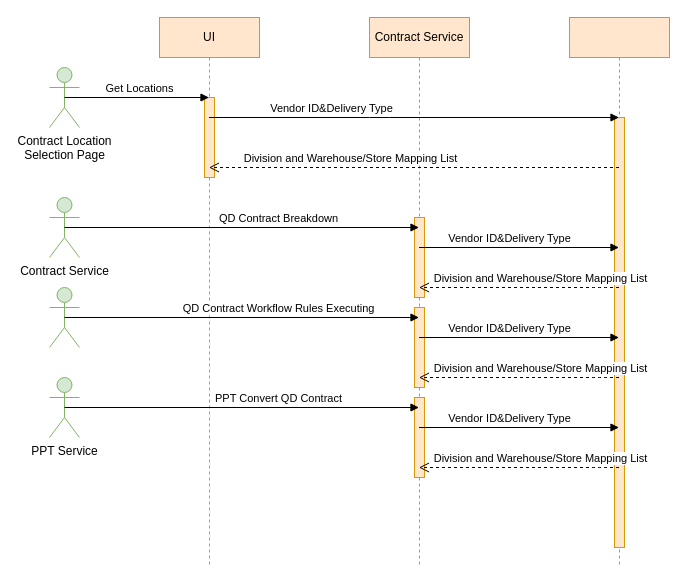
The diagram is 687 pixels wide and 585 high, and some of its shapes have lost their labels. Here are the shapes that lost their labels. From the top down, the centre of each, then its label:
[619,292]: Product Service
[64,317]: Workflow Engine
